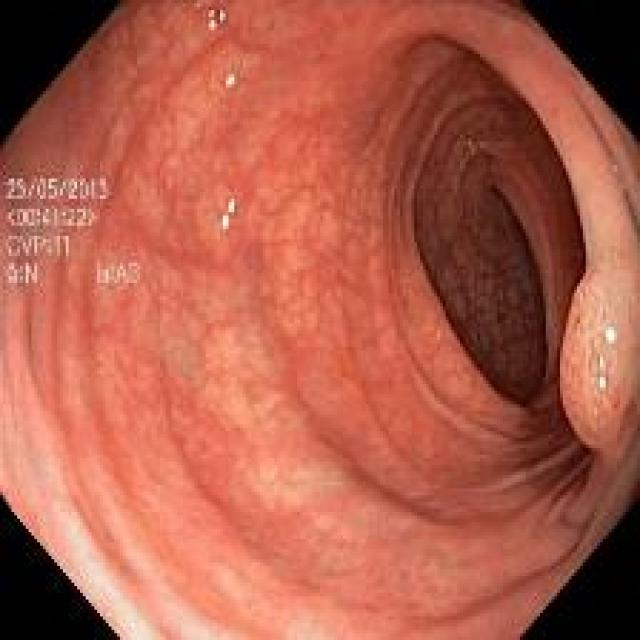Polyps: (560, 236, 640, 455)
